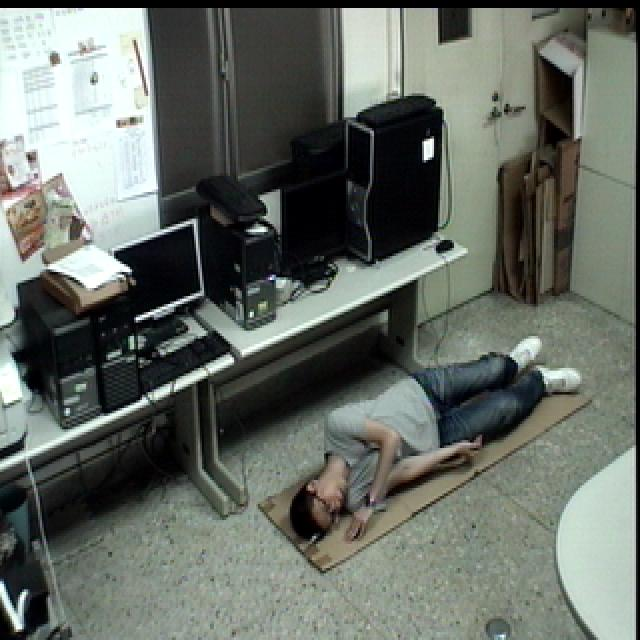lie: (288, 329, 583, 547)
